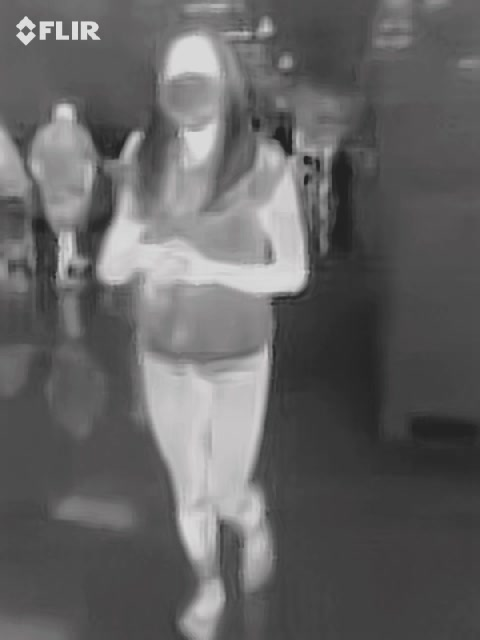head: (157, 32, 236, 132)
